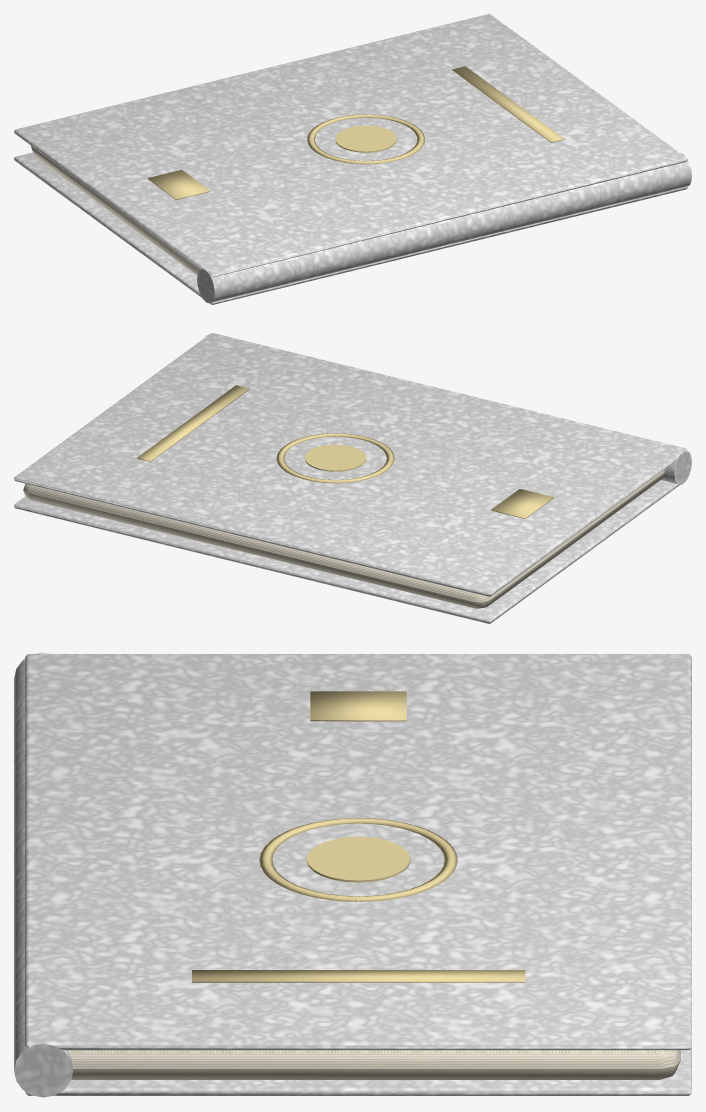
File: passport.glb
3 renders of one model, top to bottom at view 1: azimuth 30°, elevation 25°; view 2: azimuth 150°, elevation 25°; view 3: azimuth 270°, elevation 25°, orthographic. The views are drawn at different scales.
Parts seen in each view (by area): view 1: pp_front, pp_spine, pp_back, pp_title, pp_pages, pp_crest_in, pp_crest, pp_chip; view 2: pp_front, pp_back, pp_pages, pp_title, pp_crest_in, pp_crest, pp_chip, pp_spine; view 3: pp_front, pp_pages, pp_back, pp_spine, pp_title, pp_crest_in, pp_crest, pp_chip.
Boxes of the visible parts, x1,y1,x2,y2 form: pp_front: [14, 14, 687, 277]; pp_spine: [197, 153, 691, 303]; pp_back: [14, 152, 687, 304]; pp_title: [452, 66, 564, 142]; pp_pages: [31, 146, 200, 275]; pp_crest_in: [335, 125, 396, 152]; pp_crest: [307, 114, 424, 164]; pp_chip: [147, 170, 210, 199]; pp_front: [14, 333, 687, 596]; pp_back: [14, 480, 679, 623]; pp_pages: [23, 470, 664, 608]; pp_title: [137, 385, 249, 461]; pp_crest_in: [304, 444, 366, 471]; pp_crest: [276, 433, 394, 483]; pp_chip: [491, 489, 554, 518]; pp_spine: [202, 334, 691, 485]; pp_front: [25, 654, 691, 1050]; pp_pages: [68, 1050, 680, 1079]; pp_back: [25, 1047, 691, 1095]; pp_spine: [14, 652, 73, 1097]; pp_title: [192, 970, 525, 982]; pp_crest_in: [306, 836, 410, 882]; pp_crest: [259, 818, 457, 901]; pp_chip: [310, 691, 406, 721].
Size of the model in its own units: 12.5 by 0.846 by 9.15.
Materials: 3 (2 with a texture image).
